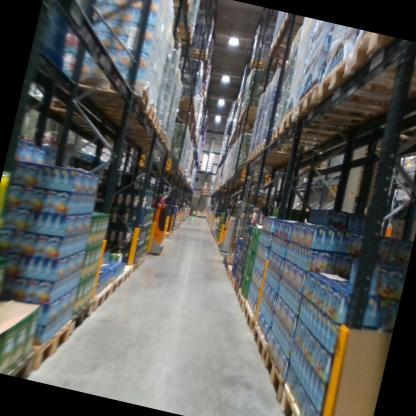pallet: (316, 47, 416, 127), (41, 50, 156, 114), (290, 81, 385, 142), (346, 30, 416, 93), (16, 311, 73, 383), (279, 106, 362, 154), (76, 85, 160, 127), (268, 120, 344, 158), (254, 343, 295, 410), (40, 88, 98, 126), (101, 101, 163, 136), (277, 380, 330, 416), (255, 137, 307, 167), (3, 342, 43, 381), (62, 296, 94, 343), (245, 317, 273, 367), (249, 150, 305, 173), (163, 19, 196, 49), (87, 280, 112, 316), (240, 298, 261, 333), (161, 0, 198, 19), (184, 42, 213, 65), (102, 272, 123, 302), (248, 56, 278, 75), (233, 288, 251, 319), (113, 261, 135, 284), (129, 255, 142, 274), (136, 249, 149, 267), (231, 280, 242, 300), (229, 273, 238, 289), (224, 265, 235, 276)
pallet_truck: (126, 172, 182, 266), (217, 192, 252, 255), (364, 198, 403, 246)
